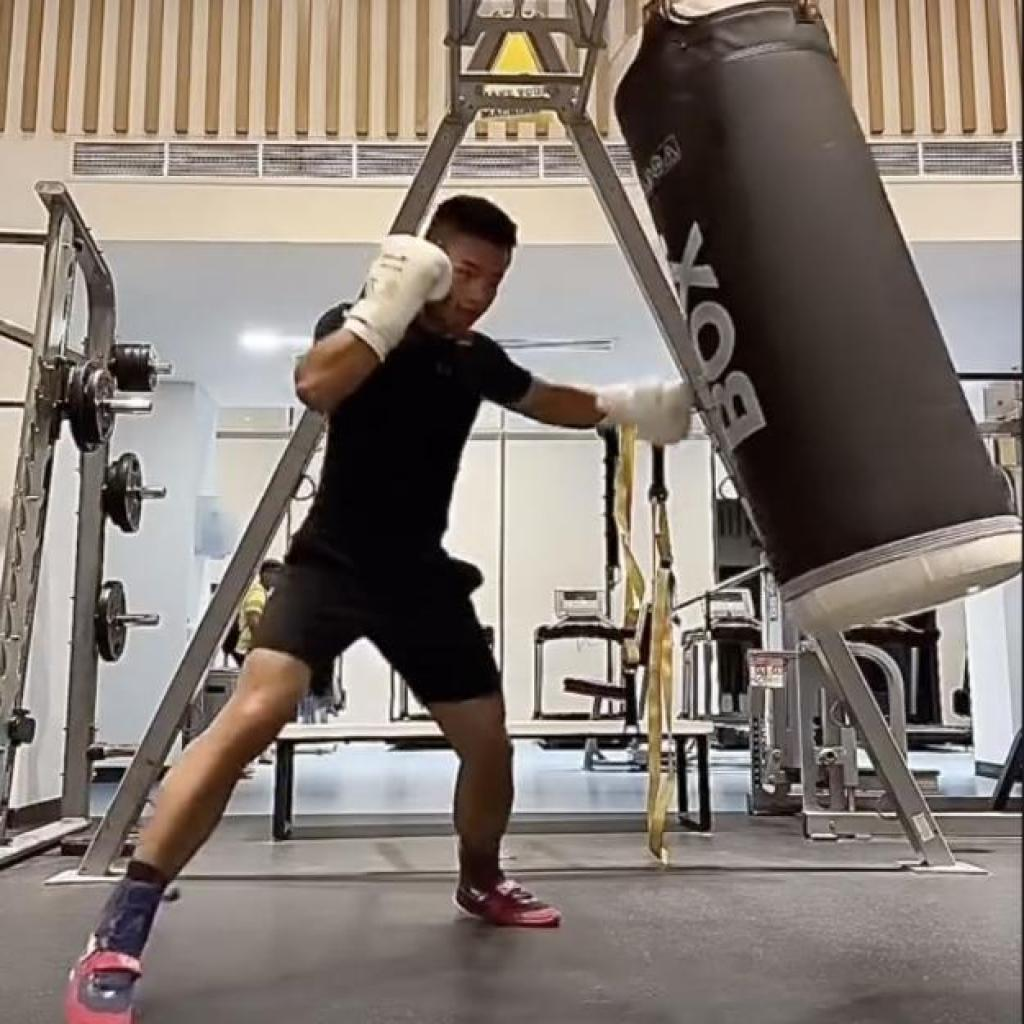bag: (591, 4, 1024, 646)
hook: (65, 193, 696, 1024)
